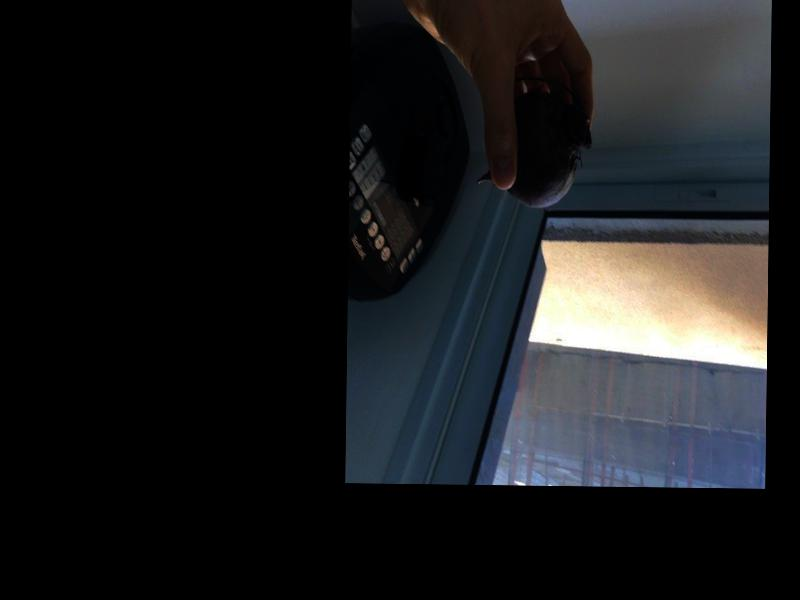Beet: (477, 78, 592, 208)
